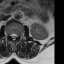CCS_normal: (12, 30, 15, 43)
LFS_stenosis: (17, 31, 19, 39)
LLS_normal: (15, 31, 17, 40)
RFS_stenosis: (8, 31, 10, 39)
RLS_normal: (10, 31, 12, 40)
